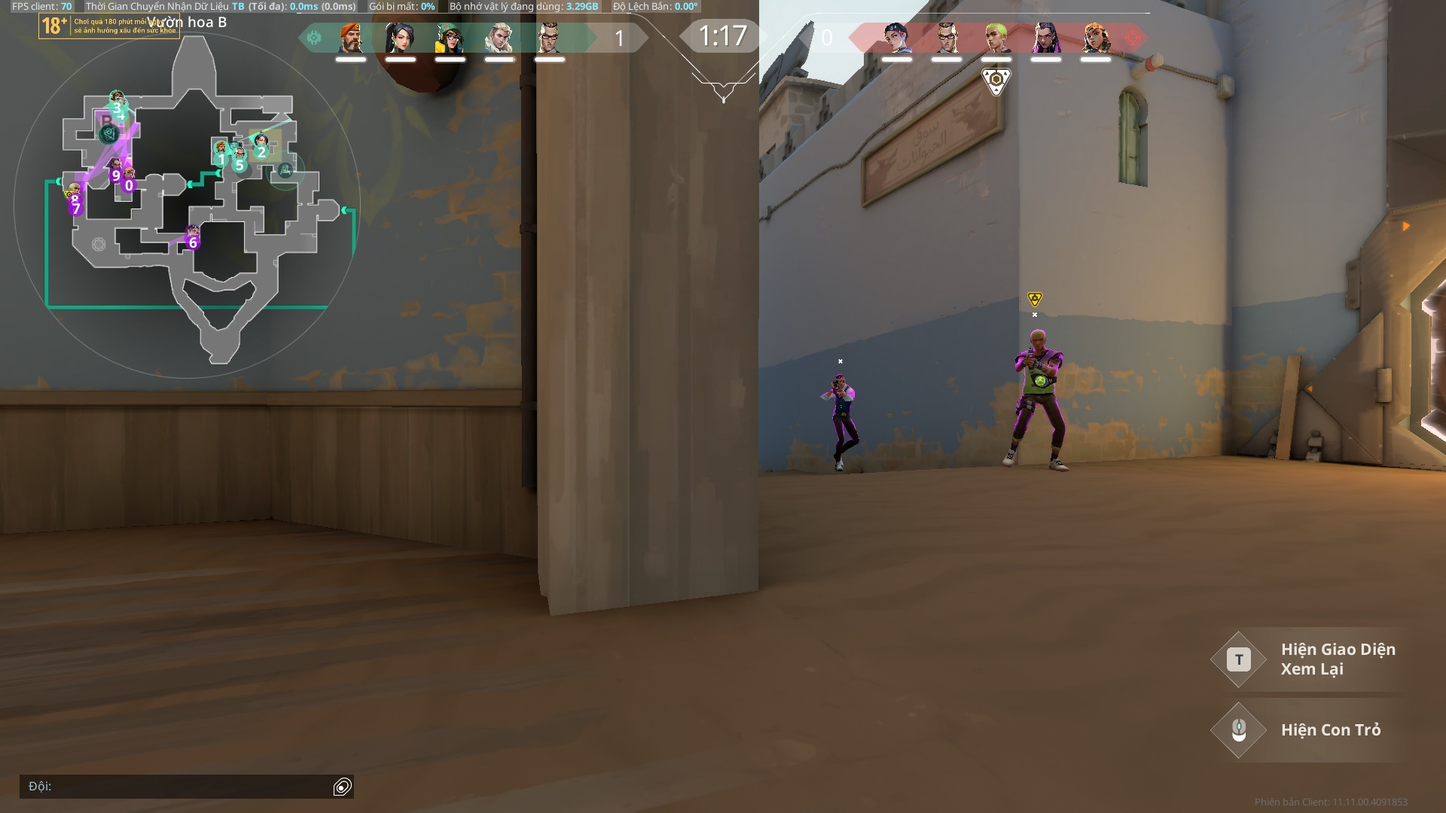body: (1017, 349, 1066, 395), (832, 386, 856, 413)
head: (1030, 328, 1048, 349), (834, 375, 846, 388)
